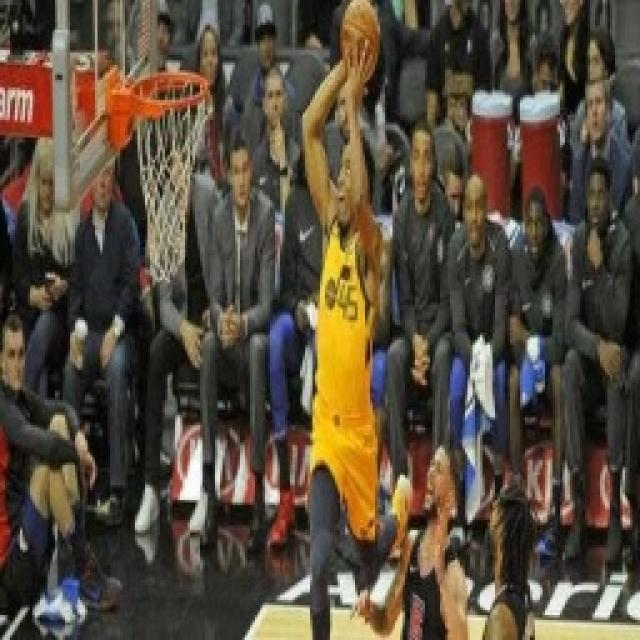rim: (332, 0, 386, 80)
